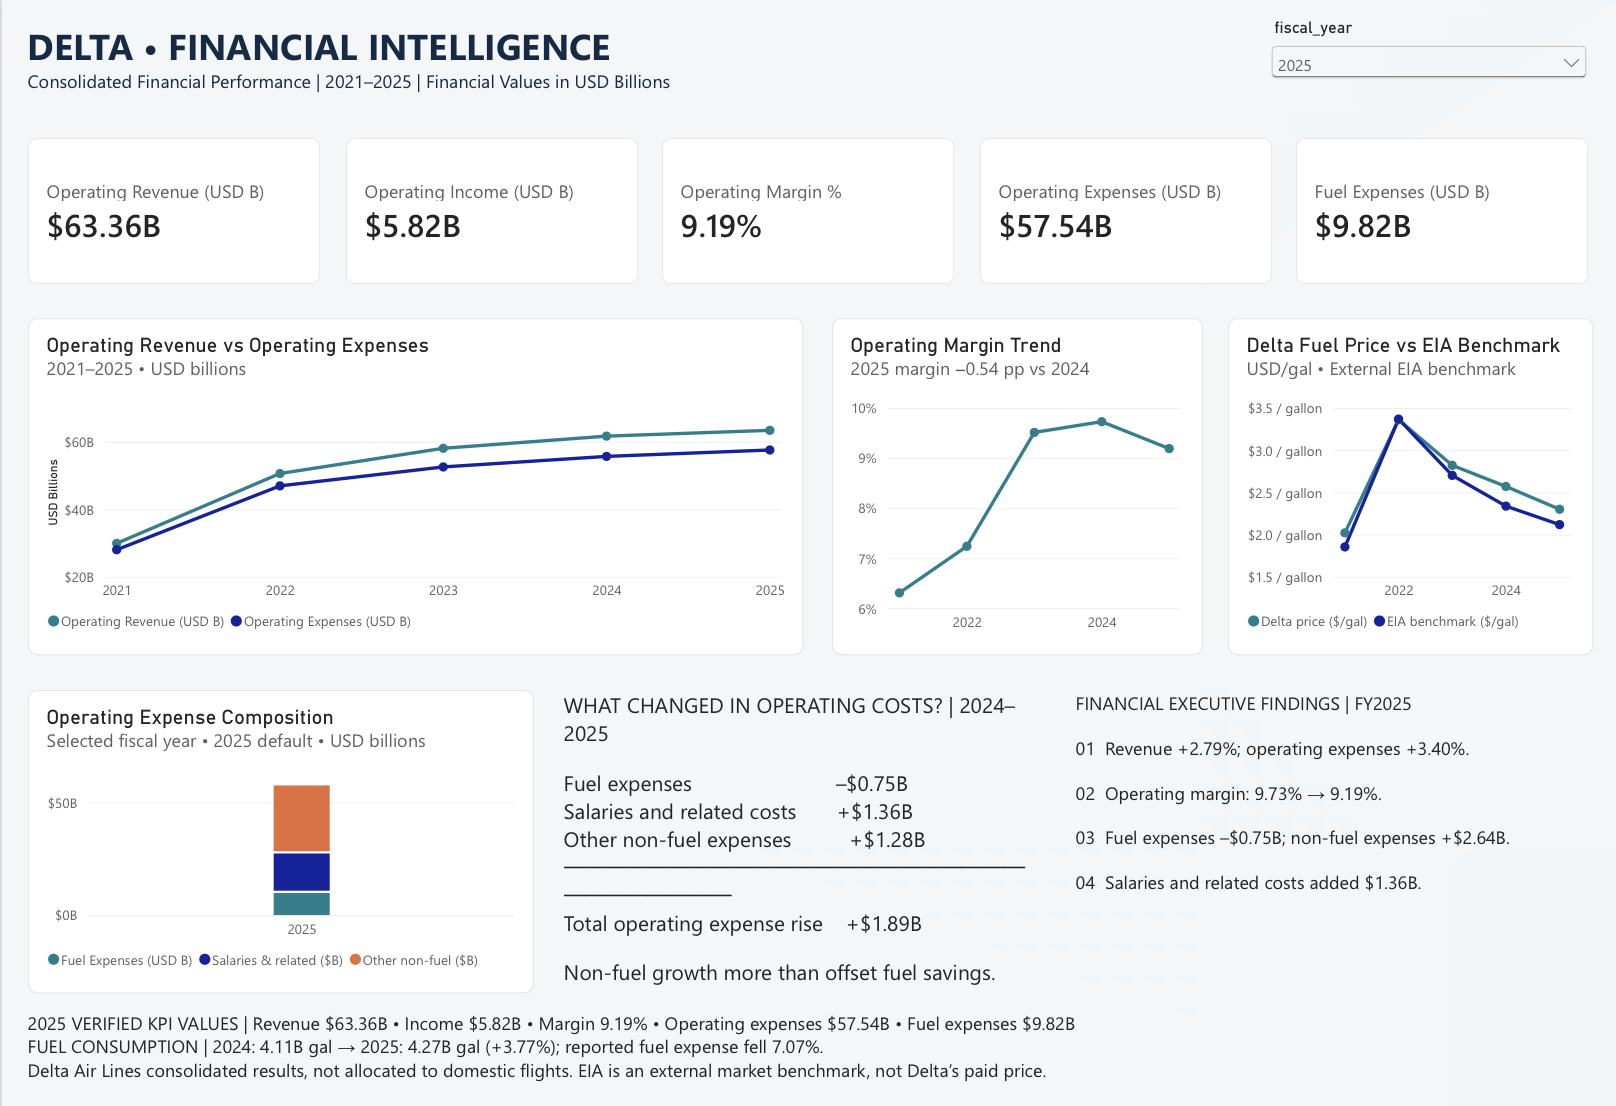

This screenshot's page, from the dashboard's own definition file:
{"tool":"powerbi","page":{"name":"03 — Financial Intelligence","canvas":[1440,1000],"ordinal":2},"visuals":[{"type":"textbox","box":[24,20,1020,90],"z":0},{"type":"slicer","fields":{"Values":["tblFinancialPerformance.fiscal_year"]},"box":[1125,20,290,85],"z":1000},{"type":"cardVisual","fields":{"Data":["tblFinancialPerformance.Operating Revenue (USD B)"]},"box":[24,125,260,130],"z":2000},{"type":"cardVisual","fields":{"Data":["tblFinancialPerformance.Operating Income (USD B)"]},"box":[306,125,260,130],"z":3000},{"type":"cardVisual","fields":{"Data":["tblFinancialPerformance.Operating Margin %"]},"box":[588,125,260,130],"z":4000},{"type":"cardVisual","fields":{"Data":["tblFinancialPerformance.Operating Expenses (USD B)"]},"box":[870,125,260,130],"z":5000},{"type":"cardVisual","fields":{"Data":["tblFinancialPerformance.Fuel Expenses (USD B)"]},"box":[1152,125,260,130],"z":6000},{"type":"lineChart","title":"Operating Revenue vs Operating Expenses","fields":{"Category":["tblFinancialPerformance.fiscal_year"],"Y":["tblFinancialPerformance.Operating Revenue (USD B)","tblFinancialPerformance.Operating Expenses (USD B)"]},"box":[24,285,690,300],"z":7000},{"type":"lineChart","title":"Operating Margin Trend","fields":{"Category":["tblFinancialPerformance.fiscal_year"],"Y":["tblFinancialPerformance.Operating Margin %"]},"box":[738,285,330,300],"z":7001},{"type":"lineChart","title":"Delta Fuel Price vs EIA Benchmark","fields":{"Category":["tblFuelEconomics.fiscal_year"],"Y":["tblFuelEconomics.Delta Average Fuel Price per Gallon","tblFuelEconomics.EIA Average Jet Fuel Spot Price per Gallon"]},"box":[1090,285,325,300],"z":7002},{"type":"columnChart","title":"Operating Expense Composition","fields":{"Category":["tblFinancialPerformance.fiscal_year"],"Y":["tblFinancialPerformance.Fuel Expenses (USD B)","tblFinancialPerformance.Salaries and Related Costs (USD B)","tblFinancialPerformance.Other Non-Fuel Operating Expenses (USD B)"]},"box":[24,615,450,270],"z":7003},{"type":"textbox","box":[500,615,420,270],"z":7004},{"type":"textbox","box":[955,615,450,270],"z":7005},{"type":"textbox","box":[24,900,1340,82],"z":7006}]}

Visuals, with their boxes in screenshot pixels (x1, y1, x2, y2), scaled from the page's 1440x1000 canvas onto the 1616x1106 screenshot:
textbox: x1=27 y1=22 x2=1172 y2=122
slicer - tblFinancialPerformance.fiscal_year: x1=1262 y1=22 x2=1588 y2=116
cardVisual - tblFinancialPerformance.Operating Revenue (USD B): x1=27 y1=138 x2=319 y2=282
cardVisual - tblFinancialPerformance.Operating Income (USD B): x1=343 y1=138 x2=635 y2=282
cardVisual - tblFinancialPerformance.Operating Margin %: x1=660 y1=138 x2=952 y2=282
cardVisual - tblFinancialPerformance.Operating Expenses (USD B): x1=976 y1=138 x2=1268 y2=282
cardVisual - tblFinancialPerformance.Fuel Expenses (USD B): x1=1293 y1=138 x2=1585 y2=282
"Operating Revenue vs Operating Expenses" lineChart: x1=27 y1=315 x2=801 y2=647
"Operating Margin Trend" lineChart: x1=828 y1=315 x2=1199 y2=647
"Delta Fuel Price vs EIA Benchmark" lineChart: x1=1223 y1=315 x2=1588 y2=647
"Operating Expense Composition" columnChart: x1=27 y1=680 x2=532 y2=979
textbox: x1=561 y1=680 x2=1032 y2=979
textbox: x1=1072 y1=680 x2=1577 y2=979
textbox: x1=27 y1=995 x2=1531 y2=1086
